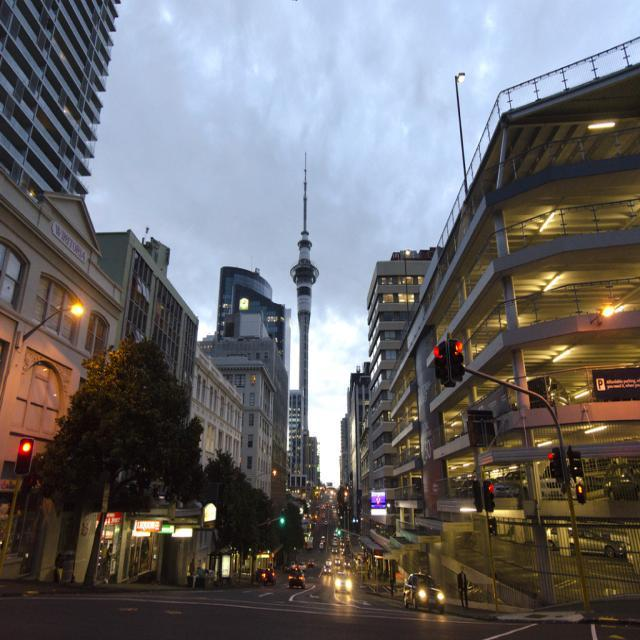off traffic light: (568, 447, 585, 478)
traffic light: (447, 337, 466, 381), (431, 343, 447, 387), (547, 448, 562, 483), (483, 481, 495, 514)
